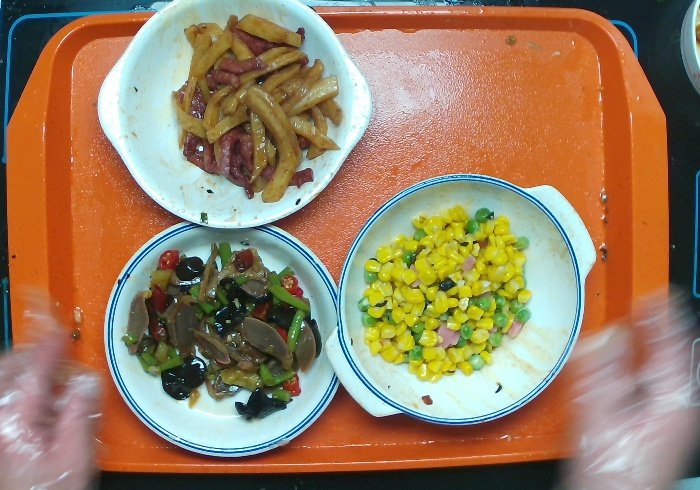HZYJPL-Dai_Er_Bai_Yuan_Wan: (94, 1, 373, 232)
HZYJPL-Lan_Bian_Dai_Er_Wan: (323, 171, 598, 431)
HZYJPL-Lan_Bian_Yuan_Die: (101, 217, 344, 461)
